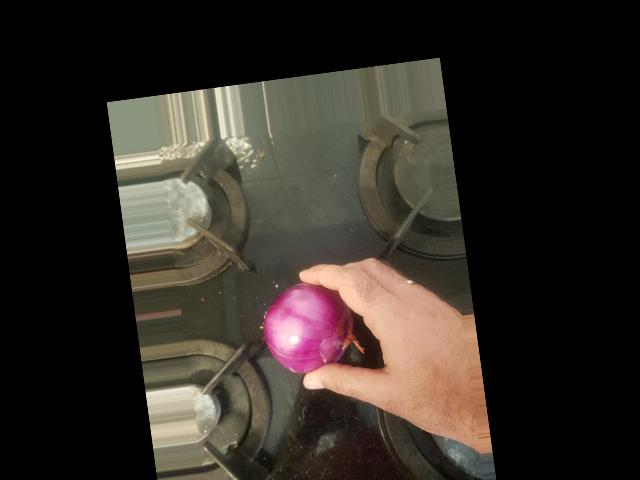onion: (202, 213, 301, 305)
